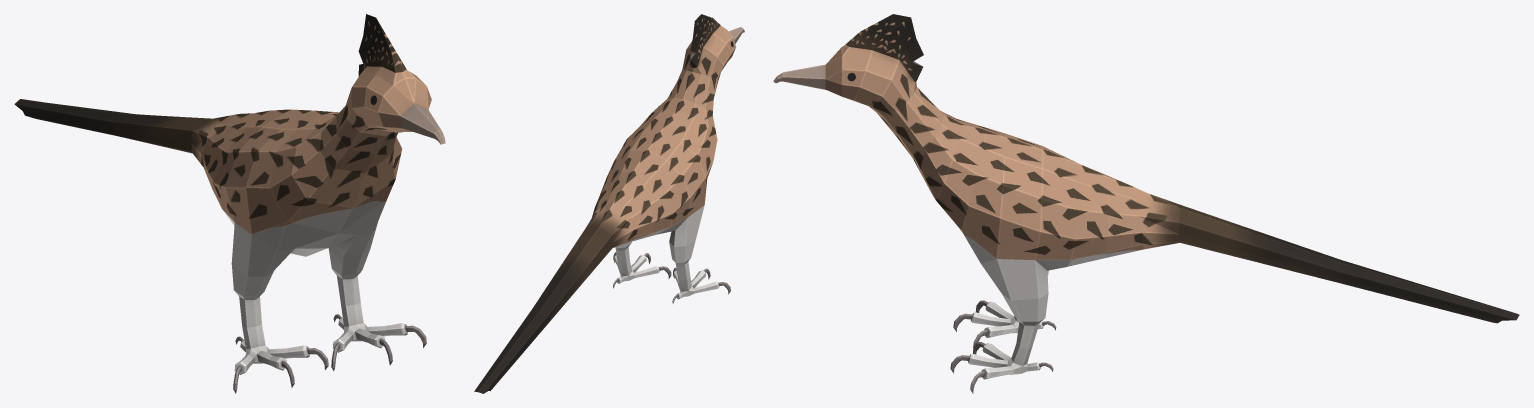
Rendered from bird1.FBX.
3 views of the same model, side by side, from view 1: azimuth 30°, elevation 25°; view 2: azimuth 150°, elevation 25°; view 3: azimuth 270°, elevation 25° (orthographic). The views are drawn at different scales.
Parts seen in each view (by area): view 1: Roadrunner_mesh; view 2: Roadrunner_mesh; view 3: Roadrunner_mesh.
Part boxes in pixels (x1,y1,x2,y2): Roadrunner_mesh: (14,14,445,393); Roadrunner_mesh: (474,14,744,393); Roadrunner_mesh: (773,14,1519,393).
Size of the model in its own units: 19.36 by 37.95 by 74.86.
